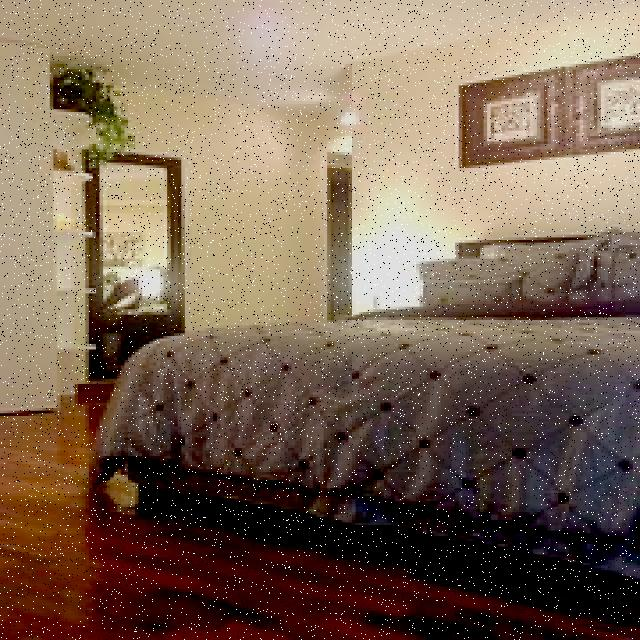bed: (106, 226, 640, 514)
